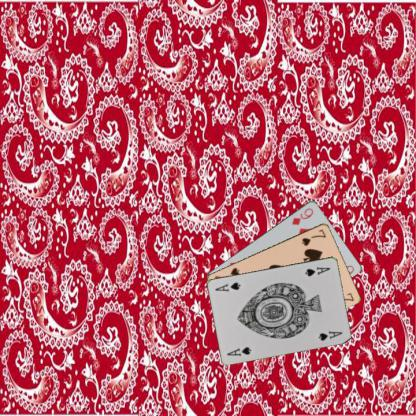7s: (299, 226, 327, 247)
9d: (289, 205, 314, 226)
As: (302, 263, 332, 278), (225, 344, 252, 357)
